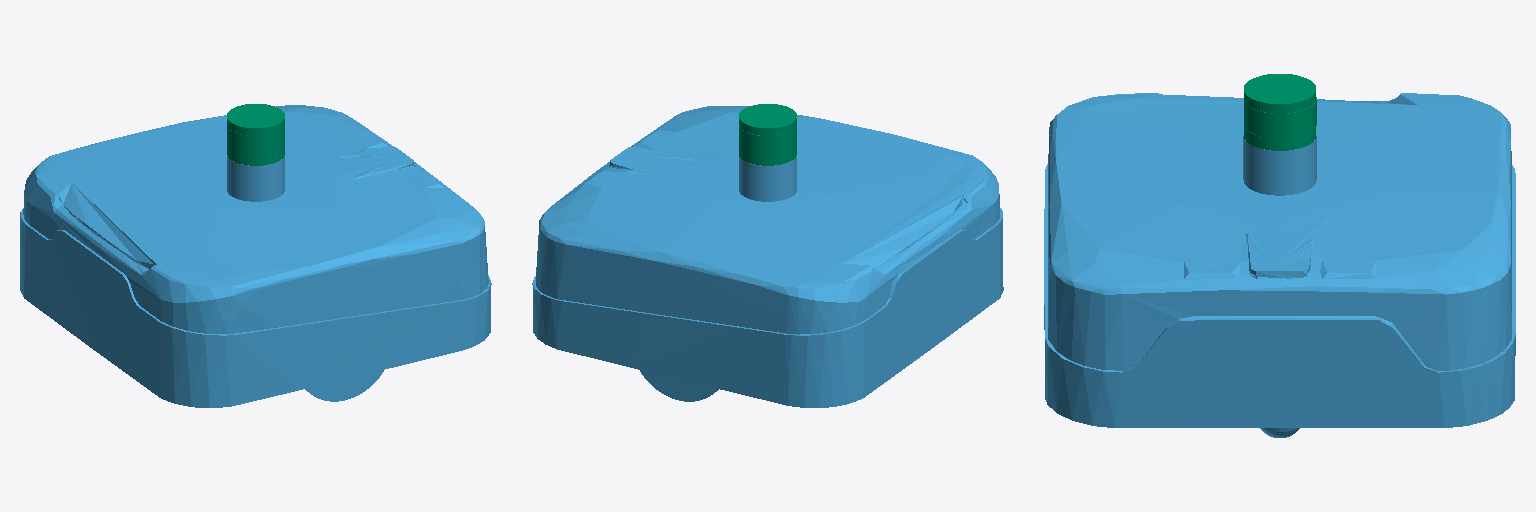
URDF robot description (DiffDrive):
<?xml version="1.0"?>
<robot name="DiffDrive">
  <webots>
    <!-- Native sensor throttling compares floating-point periods strictly.
         A tiny rate margin avoids skipping a 10 ms step at the 50 ms boundary;
         hardware sampling remains 50 ms (20 Hz). -->
    <!-- GPS is world-coordinate ground truth for validation, not odometry. -->
    <device reference="gps">
      <ros>
        <topicName>/gps</topicName>
        <frameName>world</frameName>
        <updateRate>20.000001</updateRate>
        <alwaysOn>true</alwaysOn>
      </ros>
    </device>
    <device reference="base_laser">
      <ros>
        <topicName>/DiffDrive/base_laser</topicName>
        <frameName>base_laser</frameName>
        <updateRate>20.000001</updateRate>
        <alwaysOn>true</alwaysOn>
      </ros>
    </device>
    <plugin type="webots_ros2_driver::Ros2IMU">
      <topicName>/imu</topicName>
      <frameName>imu_link</frameName>
      <!-- No extra throttling: publish at every 10 ms physics step (100 Hz). -->
      <alwaysOn>true</alwaysOn>
      <inertialUnitName>imu_sensor</inertialUnitName>
      <gyroName>gyro</gyroName>
      <accelerometerName>accelerometer</accelerometerName>
    </plugin>
    <plugin type="webots_simulation.diff_drive_driver.DiffDriveDriver">
      <wheelRadius>0.10</wheelRadius>
      <wheelSeparation>0.57</wheelSeparation>
      <cmdVelTimeout>0.3</cmdVelTimeout>
    </plugin>
  </webots>

  <!-- Visuals match DiffDriveRobot.proto; Webots owns simulation physics. -->
  <link name="base_footprint"/>
  <link name="base_link">
    <visual name="body">
      <geometry><mesh filename="package://webots_simulation/resource/meshes/demo.obj"/></geometry>
    </visual>
    <!-- Embedded materials avoid RViz Jazzy sharing the first visual's material. -->
    <visual name="base_details">
      <geometry><mesh filename="package://webots_simulation/resource/meshes/base_details.obj"/></geometry>
    </visual>
    <collision>
      <origin xyz="0 0 0.116"/>
      <geometry><box size="0.668 0.668 0.233"/></geometry>
    </collision>
  </link>
  <link name="base_laser">
    <visual name="lidar">
      <geometry><mesh filename="package://webots_simulation/resource/meshes/lidar.obj"/></geometry>
    </visual>
  </link>
  <link name="imu_link"/>
  <joint name="base_footprint_to_base_link" type="fixed">
    <parent link="base_footprint"/>
    <child link="base_link"/>
    <origin xyz="0 0 0.051" rpy="0 0 0"/>
  </joint>
  <joint name="base_link_to_base_laser" type="fixed">
    <parent link="base_link"/>
    <child link="base_laser"/>
    <origin xyz="0 0 0.34" rpy="0 0 0"/>
  </joint>
  <!-- The new IMU is at the Robot origin and aligned with its axes. -->
  <joint name="base_link_to_imu_link" type="fixed">
    <parent link="base_link"/>
    <child link="imu_link"/>
    <origin xyz="0 0 -0.051" rpy="0 0 0"/>
  </joint>
</robot>

--- Facts derived from the render (not from the file) ---
Views: 3 orthographic renders of the robot side by side, from view 1: azimuth 30°, elevation 25°; view 2: azimuth 150°, elevation 25°; view 3: azimuth 270°, elevation 25°.
Model DiffDrive with 4 links and 3 joints (3 fixed), rooted at base_footprint, posed every joint at zero.
Visible links, largest first — view 1: base_link, base_laser; view 2: base_link, base_laser; view 3: base_link, base_laser.
Link boxes in pixels (left/top/right/bottom): base_link: left=20, top=105, right=491, bottom=407; base_laser: left=227, top=104, right=284, bottom=165; base_link: left=532, top=106, right=1003, bottom=407; base_laser: left=739, top=104, right=796, bottom=165; base_link: left=1044, top=93, right=1515, bottom=437; base_laser: left=1244, top=74, right=1316, bottom=150.
Size in the robot's own frame: 0.6671 by 0.6668 by 0.4257 metres.
Meshes: 3 distinct files referenced, 3 mesh visuals loaded (3 OBJ).
